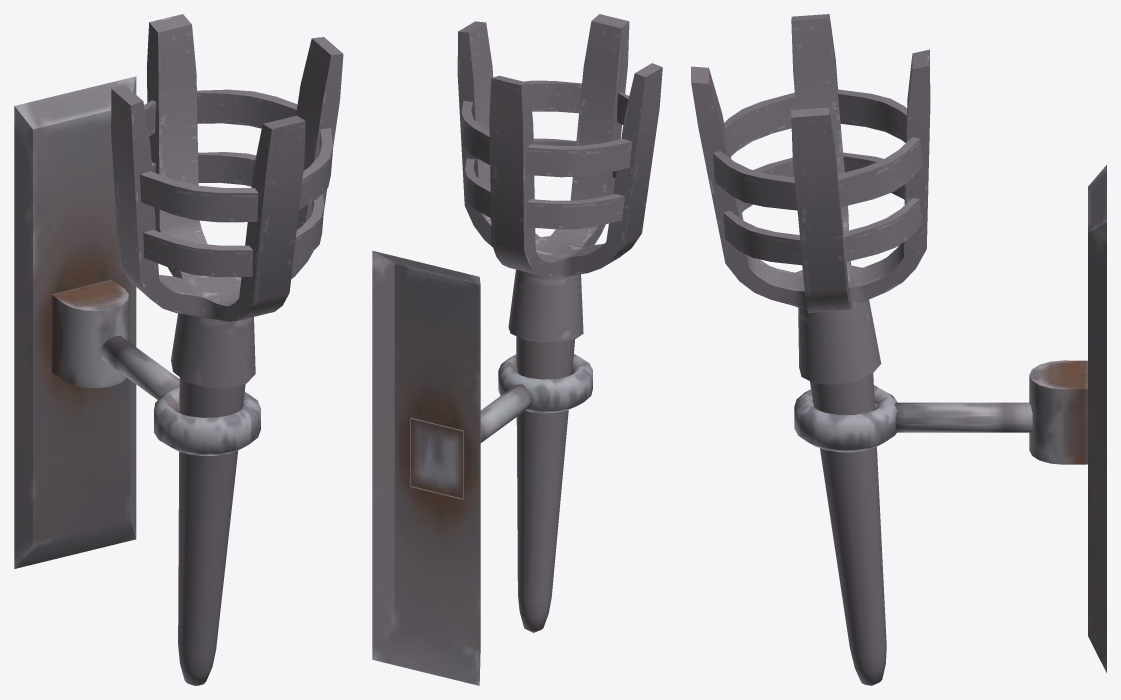
File: Torch_Metal.glb
The picture shows the model from 3 angles, left to right: view 1: azimuth 30°, elevation 25°; view 2: azimuth 150°, elevation 25°; view 3: azimuth 270°, elevation 25°; orthographic projection. The views are drawn at different scales.
Parts seen in each view (by area): view 1: Torch_Metal; view 2: Torch_Metal; view 3: Torch_Metal.
Part boxes in pixels (box(x1,y1,x2,y2)): Torch_Metal: box(14, 14, 343, 685); Torch_Metal: box(372, 14, 662, 685); Torch_Metal: box(691, 14, 1106, 685).
Bounding box in the file's own units: 0.2231 × 0.6482 × 0.3884.
Materials: 1 (1 with a texture image).
